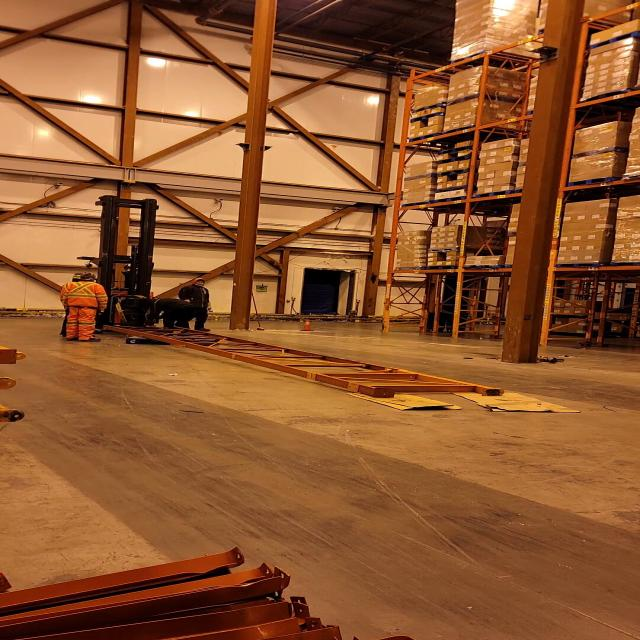forklift: (67, 199, 177, 336)
human: (63, 274, 108, 342), (149, 295, 204, 334), (178, 277, 214, 331), (58, 273, 86, 339)
objectofinterest: (96, 318, 508, 398), (443, 382, 582, 414), (337, 387, 465, 412), (121, 335, 168, 347)
